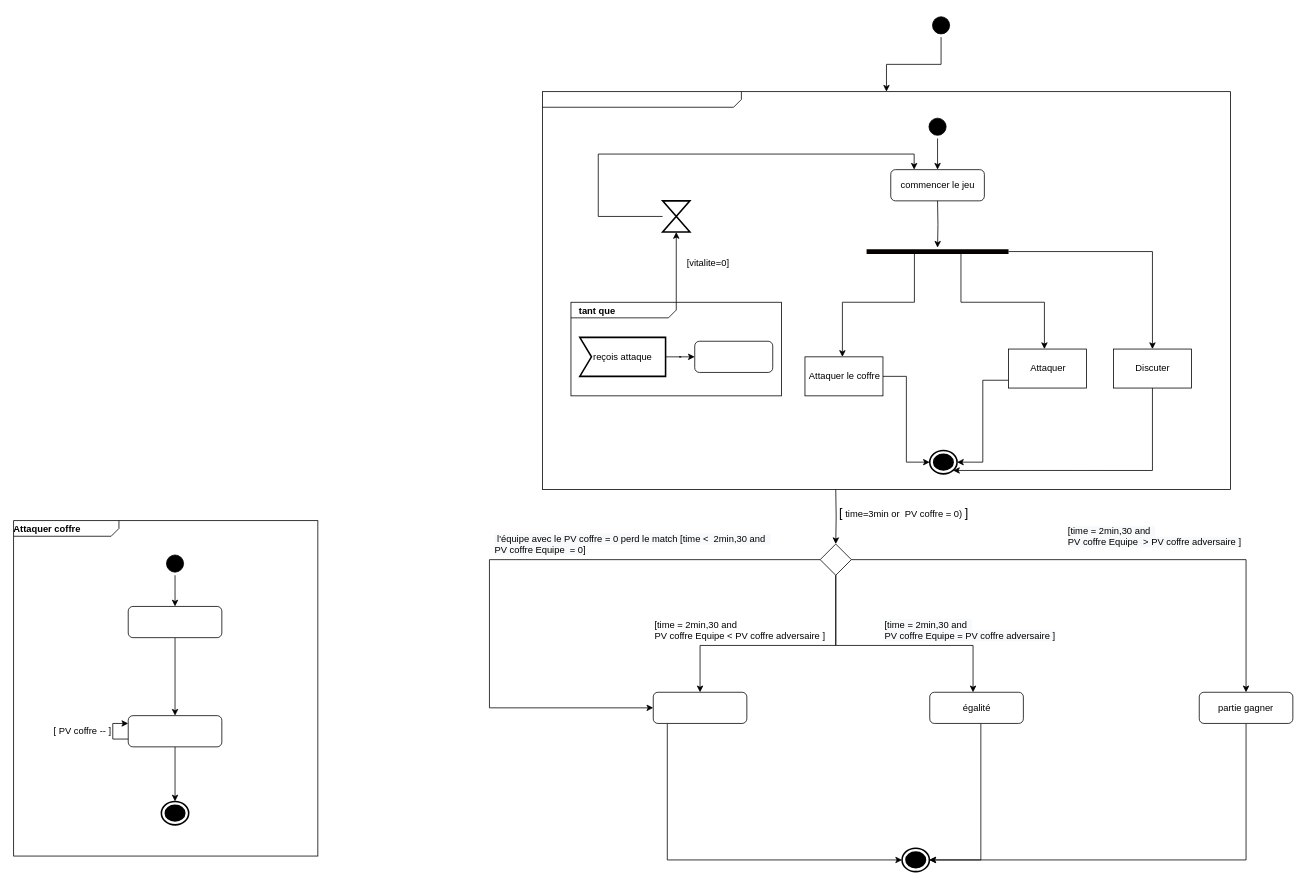
The diagram is 1307 pixels wide and 886 high, and some of its shapes have lost their labels. Each missing label, with the box of its shape:
attaquer le coffre d'équipe des ennemis: (127, 715, 222, 747)
baisse de vitalité: (694, 340, 773, 372)
partie perdue: (652, 691, 747, 723)
se déplacer: (127, 606, 222, 638)
tant que time < 3min and PV coffre > 0: (542, 91, 1230, 489)
